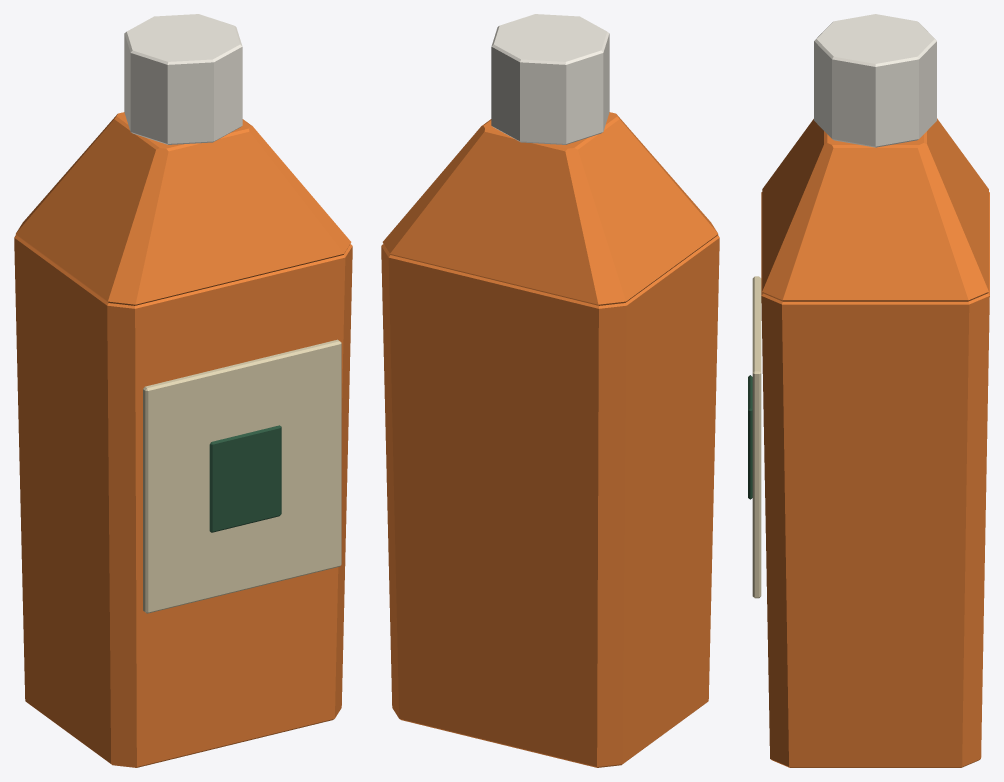
File: b16_square_juice_bottle.glb
3 renders of one model, left to right at view 1: azimuth 30°, elevation 25°; view 2: azimuth 150°, elevation 25°; view 3: azimuth 270°, elevation 25°, orthographic.
Parts seen in each view (by area): view 1: b16_square_juice_bottle; view 2: b16_square_juice_bottle; view 3: b16_square_juice_bottle.
Boxes of the visible parts, x1,y1,x2,y2 form: b16_square_juice_bottle: (14, 14, 352, 767); b16_square_juice_bottle: (381, 14, 719, 767); b16_square_juice_bottle: (748, 14, 989, 767).
Size of the model in its own units: 0.065 by 0.169 by 0.055.
